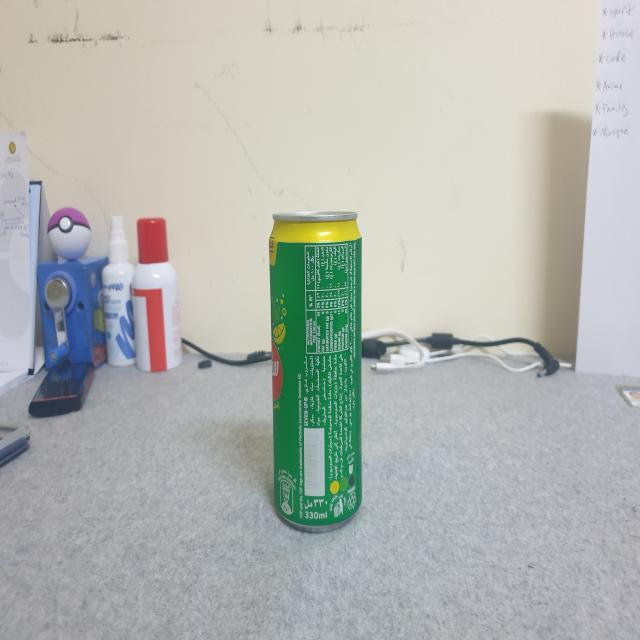non-organic waste: (258, 197, 383, 548)
